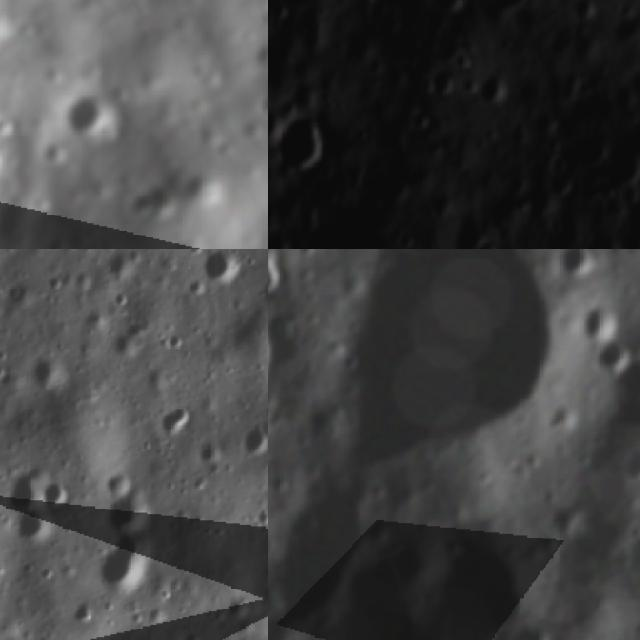crater: (303, 249, 574, 463), (270, 478, 374, 627), (430, 512, 547, 639), (270, 111, 340, 183), (52, 85, 112, 148), (100, 536, 154, 590), (122, 172, 176, 224), (534, 148, 583, 205), (25, 343, 77, 396), (106, 479, 153, 536), (7, 501, 58, 549), (599, 141, 640, 198), (154, 399, 195, 446), (592, 332, 632, 380), (476, 68, 517, 114), (202, 249, 244, 288), (607, 439, 640, 488), (557, 249, 610, 279), (268, 304, 300, 353), (235, 420, 268, 463), (32, 131, 68, 168), (422, 65, 458, 102), (69, 596, 100, 634), (578, 225, 624, 249), (44, 476, 72, 515), (484, 0, 535, 21), (268, 249, 290, 291), (570, 0, 604, 24), (0, 0, 16, 49), (427, 0, 466, 20), (253, 79, 268, 119), (469, 235, 510, 249)
